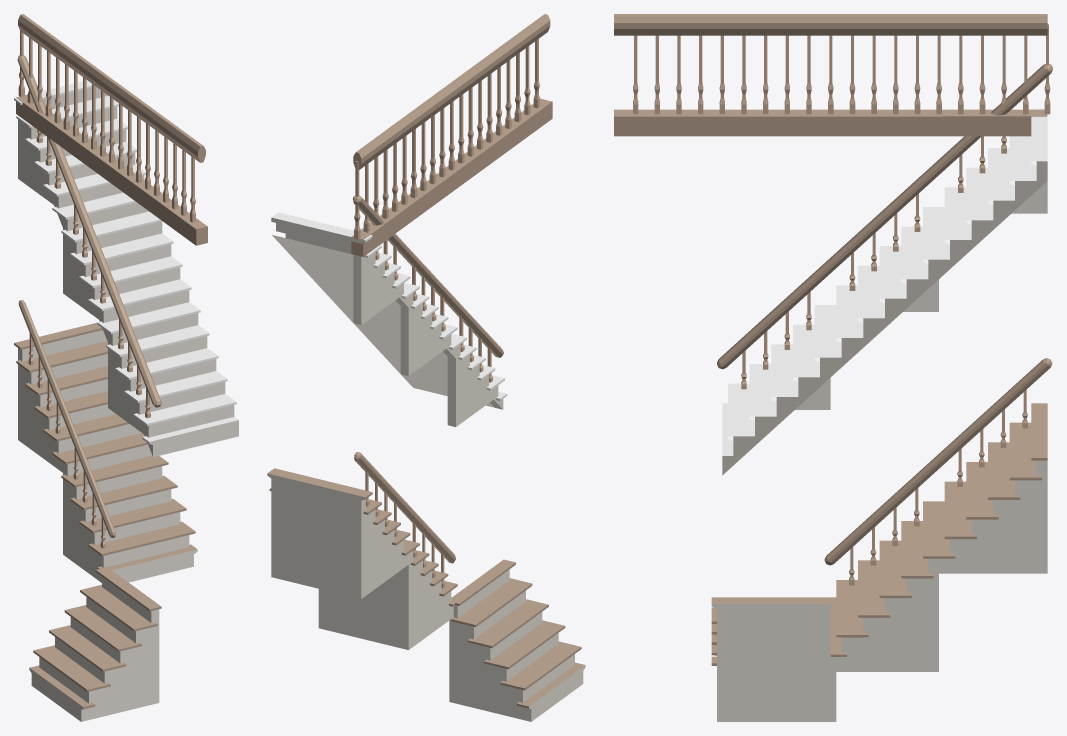
The model's file is MAST_Stairs.fbx.
The picture shows the model from 3 angles, left to right: view 1: azimuth 30°, elevation 25°; view 2: azimuth 150°, elevation 25°; view 3: azimuth 270°, elevation 25°; orthographic projection. The views are drawn at different scales.
Parts seen in each view (by area): view 1: Structure_Stairs_Straight_0_0_4, Structure_Stairs_Straight_0_0_5, Structure_Stairs_Straight, Structure_Stairs_Straight_0_0_1, Structure_Stairs_Straight_0_0_3, Structure_Stairs_Straight_0_0_2, Cube, Structure_Stairs_Railing_Landing_Side_0_0_3, Structure_Stairs_Railing_Landing_Side, Structure_Stairs_Railing_Landing_Side_0_0_2, Structure_Stairs_Railing_Landing_Side_0_0_1, Structure_Stairs_Railing_Rising_Straight_0_0_1 (+4 smaller); view 2: Structure_Stairs_Straight_0_0_5, Structure_Stairs_Straight_0_0_3, Structure_Stairs_Straight_0_0_4, Structure_Stairs_Straight_0_0_2, Cube, Structure_Stairs_Straight_0_0_1, Structure_Stairs_Straight, Structure_Stairs_Railing_Landing_Side, Structure_Stairs_Railing_Landing_Side_0_0_2, Structure_Stairs_Railing_Landing_Side_0_0_3, Structure_Stairs_Railing_Landing_Side_0_0_1, Structure_Stairs_Railing_Rising_Straight_0_0_1 (+4 smaller); view 3: Structure_Stairs_Straight_0_0_5, Structure_Stairs_Straight_0_0_3, Structure_Stairs_Straight_0_0_4, Cube, Structure_Stairs_Straight, Structure_Stairs_Straight_0_0_1, Structure_Stairs_Straight_0_0_2, Structure_Stairs_Railing_Landing_Side, Structure_Stairs_Railing_Landing_Side_0_0_3, Structure_Stairs_Railing_Landing_Side_0_0_2, Structure_Stairs_Railing_Landing_Side_0_0_1, Structure_Stairs_Railing_Rising_Straight_0_0_1 (+4 smaller).
Part boxes in pixels (left/top/right/bottom): Structure_Stairs_Straight_0_0_4: left=59, top=437, right=197, bottom=582; Structure_Stairs_Straight_0_0_5: left=29, top=569, right=161, bottom=721; Structure_Stairs_Straight: left=104, top=305, right=238, bottom=457; Structure_Stairs_Straight_0_0_1: left=59, top=196, right=193, bottom=341; Structure_Stairs_Straight_0_0_3: left=14, top=323, right=144, bottom=472; Structure_Stairs_Straight_0_0_2: left=14, top=80, right=145, bottom=227; Cube: left=16, top=94, right=207, bottom=245; Structure_Stairs_Railing_Landing_Side_0_0_3: left=153, top=113, right=205, bottom=222; Structure_Stairs_Railing_Landing_Side: left=108, top=80, right=157, bottom=189; Structure_Stairs_Railing_Landing_Side_0_0_2: left=63, top=47, right=112, bottom=156; Structure_Stairs_Railing_Landing_Side_0_0_1: left=18, top=14, right=67, bottom=123; Structure_Stairs_Railing_Rising_Straight_0_0_1: left=107, top=286, right=161, bottom=418; Structure_Stairs_Straight_0_0_5: left=449, top=559, right=585, bottom=721; Structure_Stairs_Straight_0_0_3: left=267, top=468, right=412, bottom=598; Structure_Stairs_Straight_0_0_4: left=318, top=539, right=457, bottom=649; Structure_Stairs_Straight_0_0_2: left=271, top=212, right=412, bottom=324; Cube: left=351, top=98, right=552, bottom=256; Structure_Stairs_Straight_0_0_1: left=319, top=282, right=459, bottom=375; Structure_Stairs_Straight: left=366, top=334, right=507, bottom=427; Structure_Stairs_Railing_Landing_Side: left=450, top=48, right=503, bottom=163; Structure_Stairs_Railing_Landing_Side_0_0_2: left=403, top=83, right=455, bottom=197; Structure_Stairs_Railing_Landing_Side_0_0_3: left=498, top=14, right=550, bottom=128; Structure_Stairs_Railing_Landing_Side_0_0_1: left=353, top=118, right=408, bottom=232; Structure_Stairs_Railing_Rising_Straight_0_0_1: left=449, top=298, right=503, bottom=382; Structure_Stairs_Straight_0_0_5: left=711, top=597, right=836, bottom=721; Structure_Stairs_Straight_0_0_3: left=939, top=403, right=1047, bottom=573; Structure_Stairs_Straight_0_0_4: left=830, top=501, right=938, bottom=671; Cube: left=614, top=109, right=1047, bottom=136; Structure_Stairs_Straight: left=722, top=305, right=830, bottom=475; Structure_Stairs_Straight_0_0_1: left=830, top=207, right=938, bottom=376; Structure_Stairs_Straight_0_0_2: left=939, top=108, right=1047, bottom=278; Structure_Stairs_Railing_Landing_Side: left=722, top=14, right=830, bottom=114; Structure_Stairs_Railing_Landing_Side_0_0_3: left=614, top=14, right=722, bottom=114; Structure_Stairs_Railing_Landing_Side_0_0_2: left=830, top=14, right=938, bottom=114; Structure_Stairs_Railing_Landing_Side_0_0_1: left=939, top=14, right=1047, bottom=114; Structure_Stairs_Railing_Rising_Straight_0_0_1: left=717, top=261, right=834, bottom=389.
Bounding box in the file's own units: 210 × 720 × 405.
